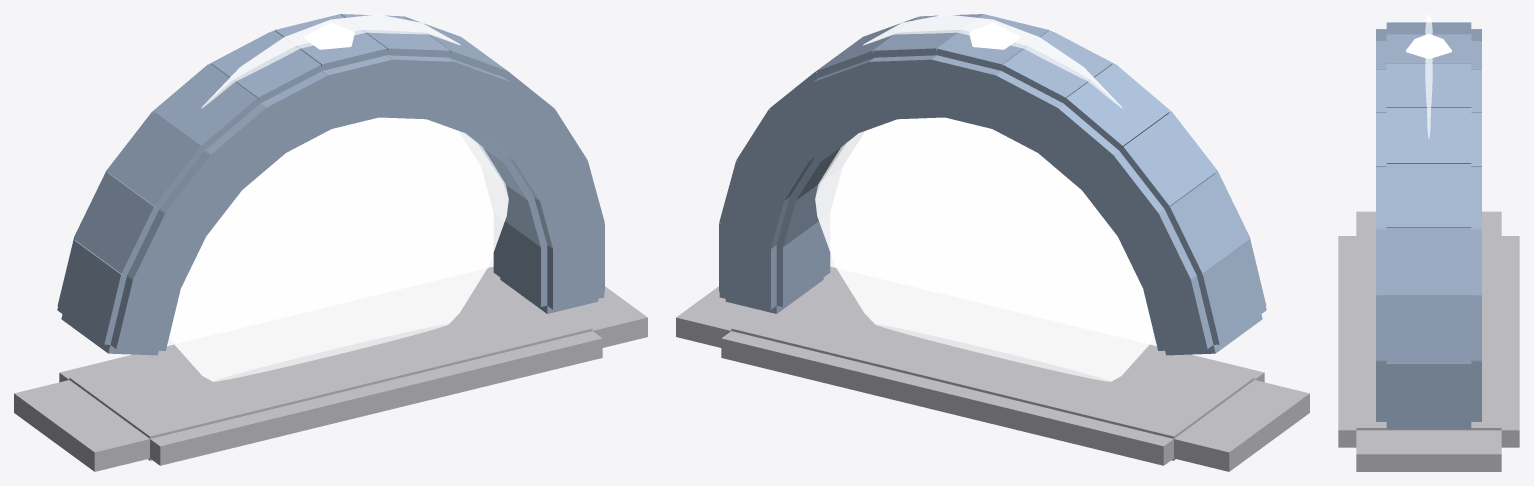
Rendered from build_portal_snow.glb.
3 views of the same model, side by side, from view 1: azimuth 30°, elevation 25°; view 2: azimuth 150°, elevation 25°; view 3: azimuth 270°, elevation 25° (orthographic). The views are drawn at different scales.
Visible parts, largest first — view 1: box; view 2: box; view 3: box.
Boxes of the visible parts, x1,y1,x2,y2 form: box: (14,14,647,471); box: (676,14,1309,471); box: (1338,14,1519,471).
Bounding box in the file's own units: 3.8 × 2.5 × 1.2.
